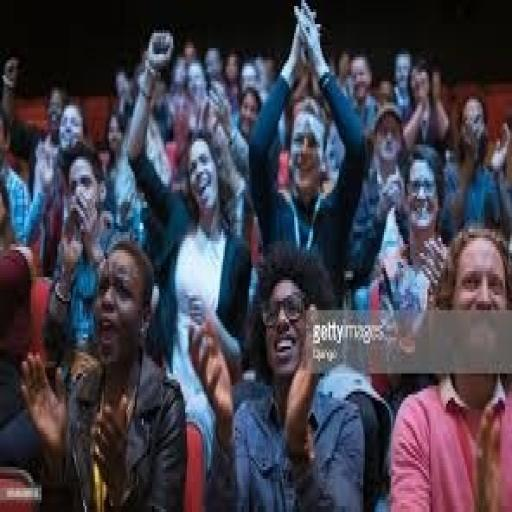clapping: (2, 3, 510, 509)
